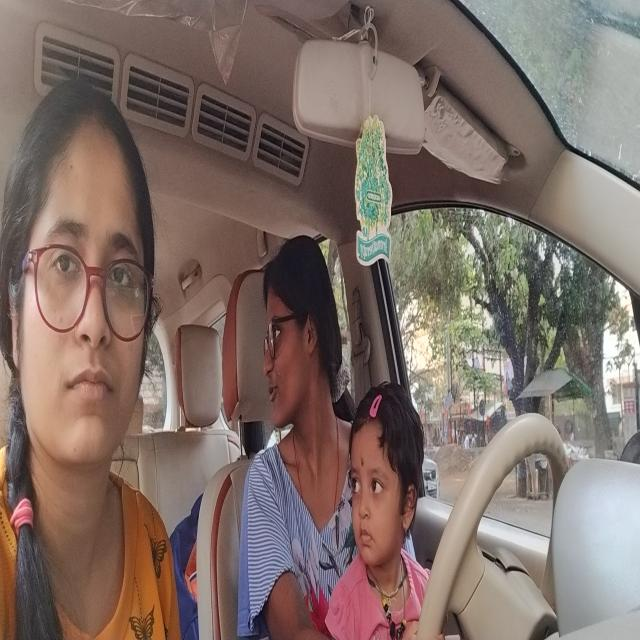LeftRight: (253, 256, 327, 430)
child: (346, 400, 416, 570)
person: (13, 101, 152, 473)
